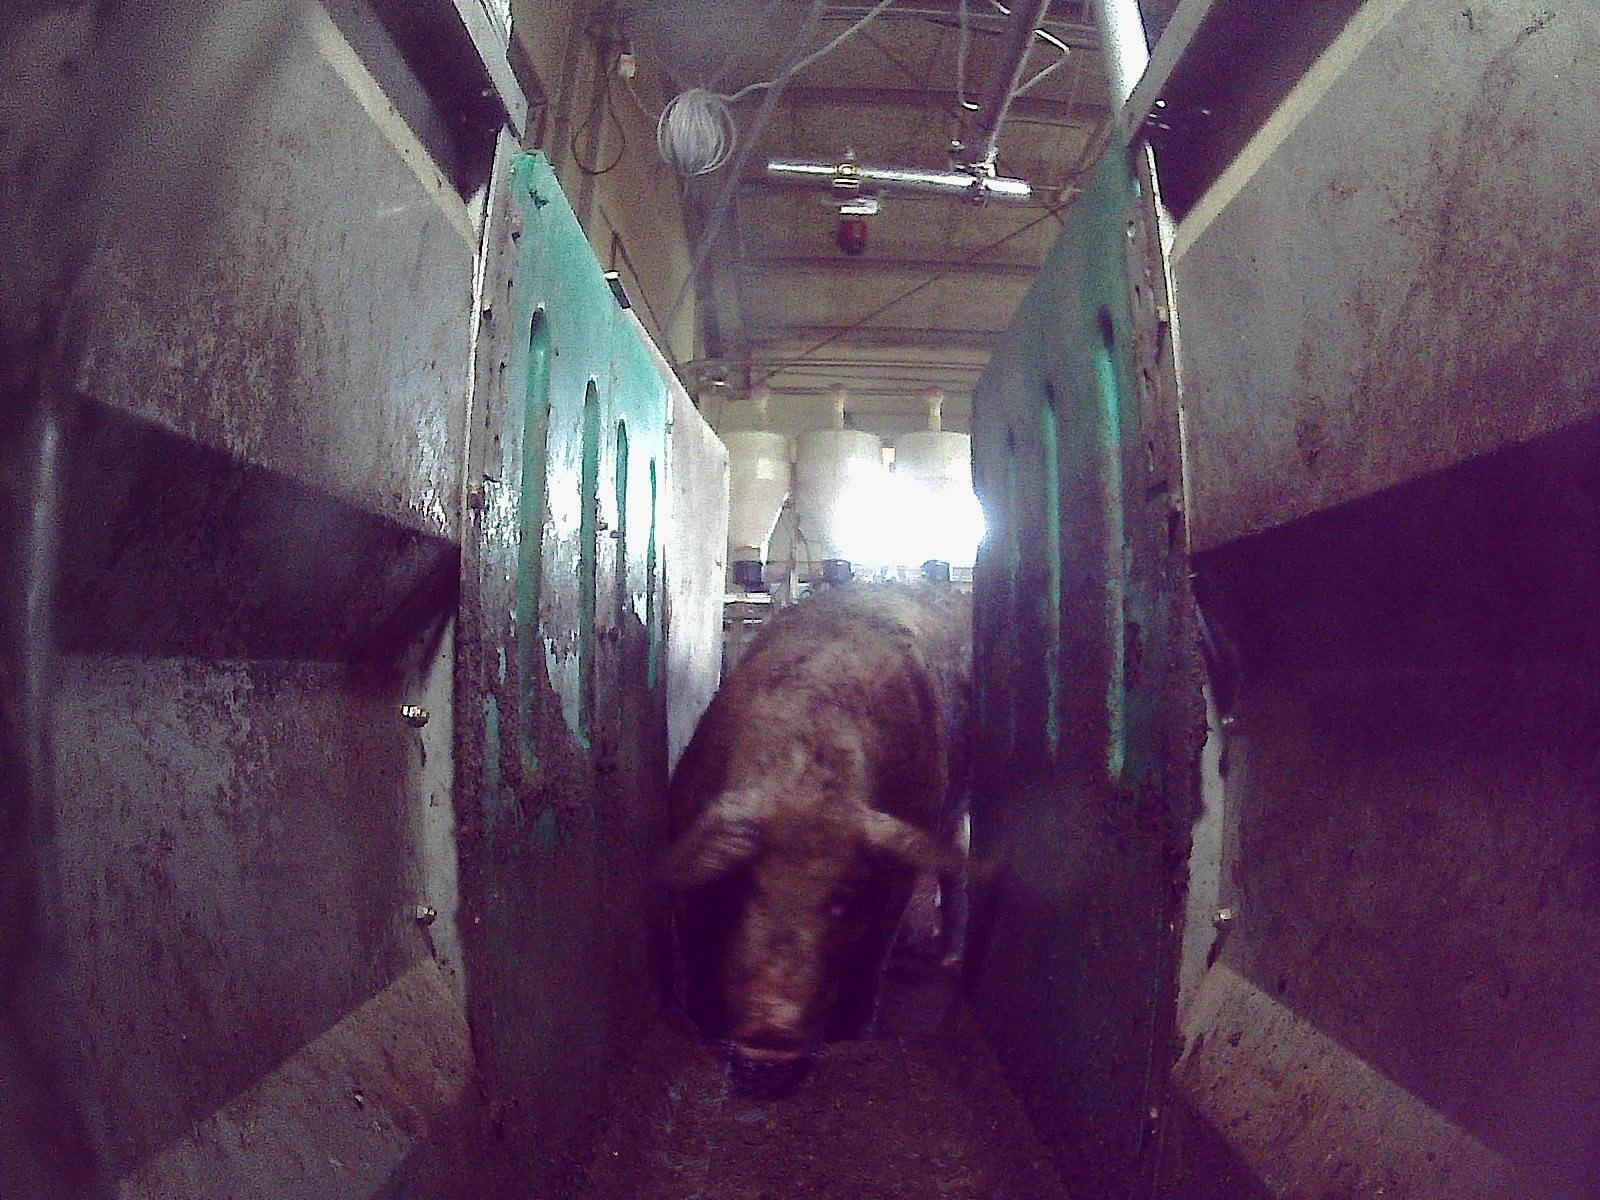Face: (709, 790, 869, 1061)
